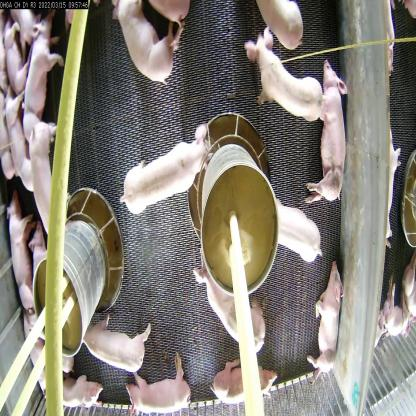Pig: (241, 27, 324, 126), (191, 267, 281, 353), (122, 128, 206, 216), (108, 0, 186, 90), (23, 96, 66, 227), (311, 59, 348, 207), (309, 260, 348, 376), (16, 8, 58, 114), (75, 322, 155, 375), (267, 194, 327, 264), (1, 206, 38, 315), (212, 352, 282, 406), (127, 365, 195, 415), (43, 359, 107, 411)
